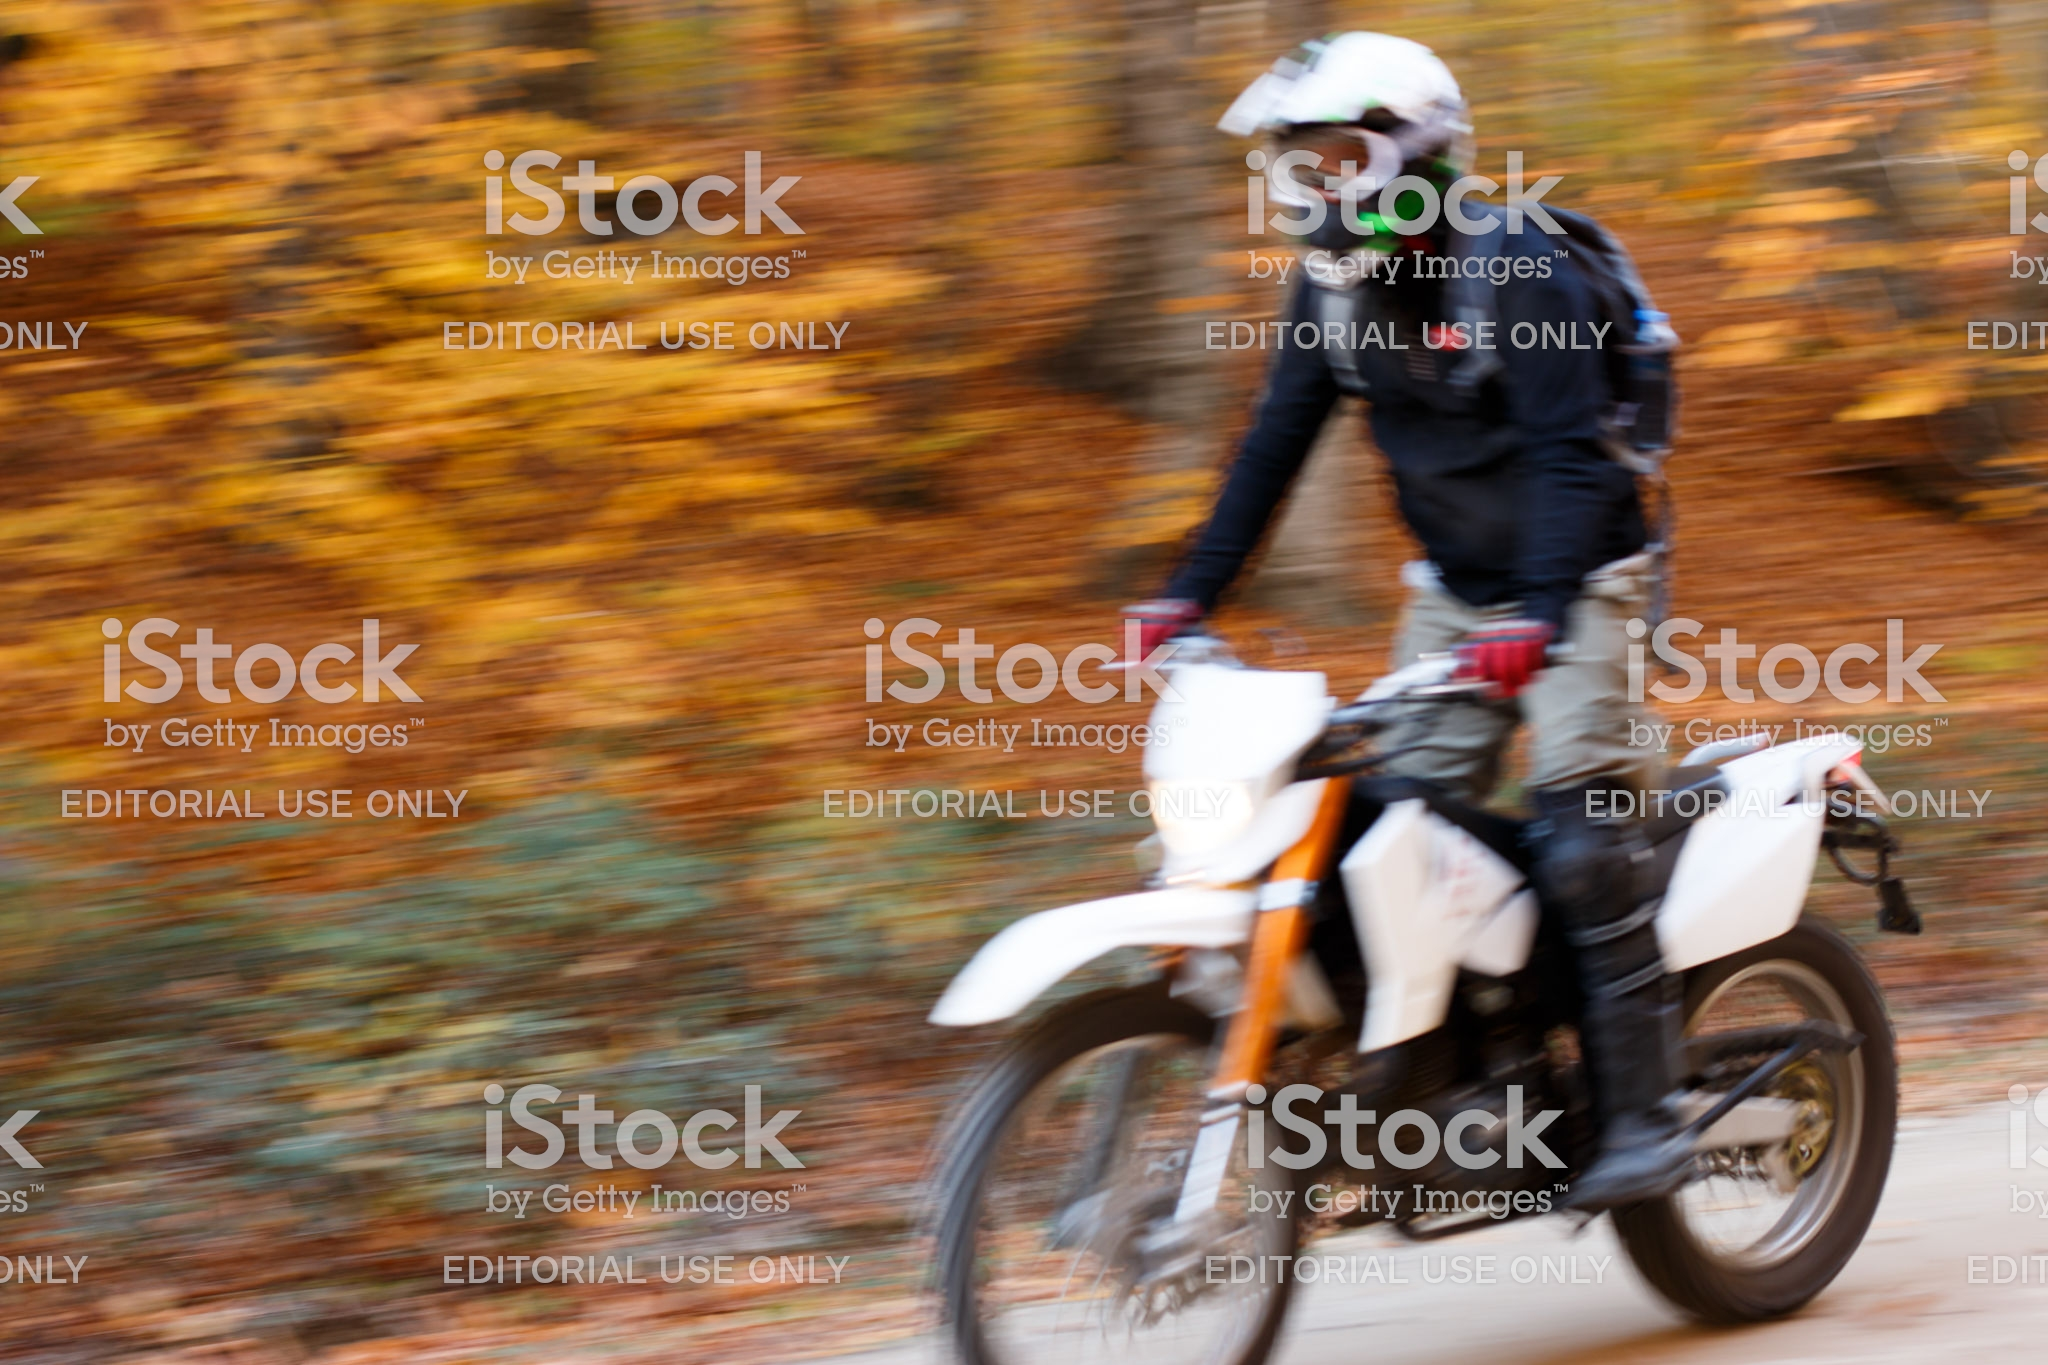helmet: (1211, 23, 1494, 288)
